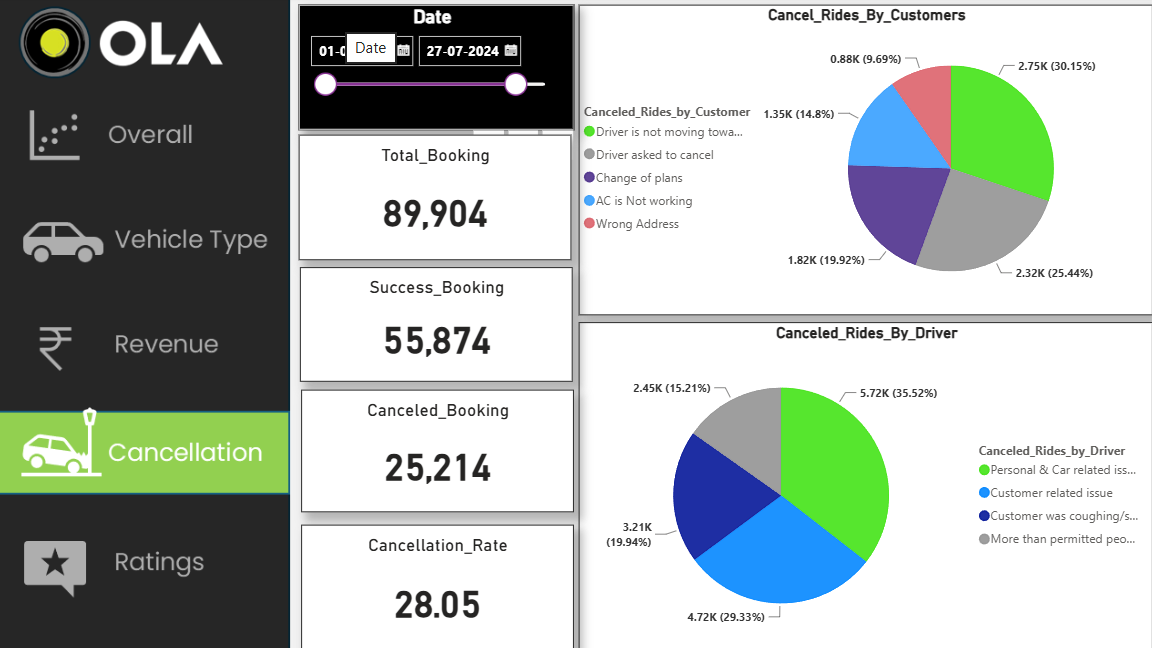

Layout of this report page (visuals, bound fields, positions):
{"tool":"powerbi","page":{"name":"Cancellation","canvas":[1280,720],"ordinal":3},"visuals":[{"type":"actionButton","box":[0,208.6,323.5,100.8],"z":0},{"type":"actionButton","box":[0,319.7,323.8,93.3],"z":1000},{"type":"actionButton","box":[0,446,323.8,107],"z":2000},{"type":"actionButton","box":[0,553,323.8,102.9],"z":3000},{"type":"actionButton","box":[0,206.3,323.5,103.2],"z":4000},{"type":"actionButton","box":[0,107.8,314.1,103.2],"z":5000},{"type":"actionButton","box":[0,94.7,323.8,104.3],"z":6000},{"type":"actionButton","box":[0,104.3,323.8,104.3],"z":7000},{"type":"actionButton","box":[10,216.3,323.5,103.2],"z":8000},{"type":"actionButton","box":[0,220.9,323.8,91.9],"z":9000},{"type":"pieChart","title":"Cancel_Rides_By_Customers","fields":{"Category":["Bookings.Canceled_Rides_by_Customer"],"Y":["CountNonNull(Bookings.Canceled_Rides_by_Customer)"]},"box":[640.2,9,631.2,341],"z":10000},{"type":"pieChart","title":"Canceled_Rides_By_Driver","fields":{"Category":["Bookings.Canceled_Rides_by_Driver"],"Y":["CountNonNull(Bookings.Canceled_Rides_by_Driver)"]},"box":[640.2,357.5,631.2,362],"z":11000},{"type":"slicer","title":"Date","fields":{"Values":["Bookings.Date"]},"box":[333.5,9,302.1,137.6],"z":12000},{"type":"card","title":" Total_Booking ","fields":{"Values":["CountNonNull(Bookings.Booking_ID)"]},"box":[333.5,152.6,299.1,137.6],"z":13000},{"type":"card","title":" Success_Booking ","fields":{"Values":["CountNonNull(Bookings.Booking_ID)"]},"box":[335,297.6,299.1,125.6],"z":14000},{"type":"card","title":" Canceled_Booking ","fields":{"Values":["CountNonNull(Bookings.Booking_ID)"]},"box":[336.5,432.3,299.1,134.6],"z":15000},{"type":"card","title":" Cancellation_Rate","fields":{"Values":["Bookings.CanceledPercentage"]},"box":[336.5,580.3,299.1,139.1],"z":16000}]}

Visuals, with their boxes on the page's 1280x720 design canvas (x1, y1, x2, y2). These are canvas units, not pixel positions in the 1152x648 screenshot, which may show the page scaled, cropped or inside an application window:
actionButton: (0, 209, 324, 309)
actionButton: (0, 320, 324, 413)
actionButton: (0, 446, 324, 553)
actionButton: (0, 553, 324, 656)
actionButton: (0, 206, 324, 310)
actionButton: (0, 108, 314, 211)
actionButton: (0, 95, 324, 199)
actionButton: (0, 104, 324, 209)
actionButton: (10, 216, 334, 320)
actionButton: (0, 221, 324, 313)
"Cancel_Rides_By_Customers" pieChart: (640, 9, 1271, 350)
"Canceled_Rides_By_Driver" pieChart: (640, 358, 1271, 720)
"Date" slicer: (334, 9, 636, 147)
" Total_Booking " card: (334, 153, 633, 290)
" Success_Booking " card: (335, 298, 634, 423)
" Canceled_Booking " card: (336, 432, 636, 567)
" Cancellation_Rate" card: (336, 580, 636, 719)
